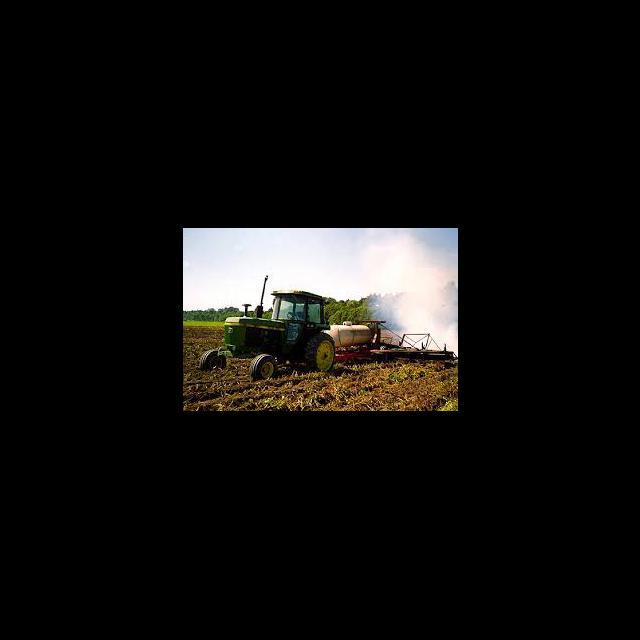Smoke: (402, 262, 457, 328)
